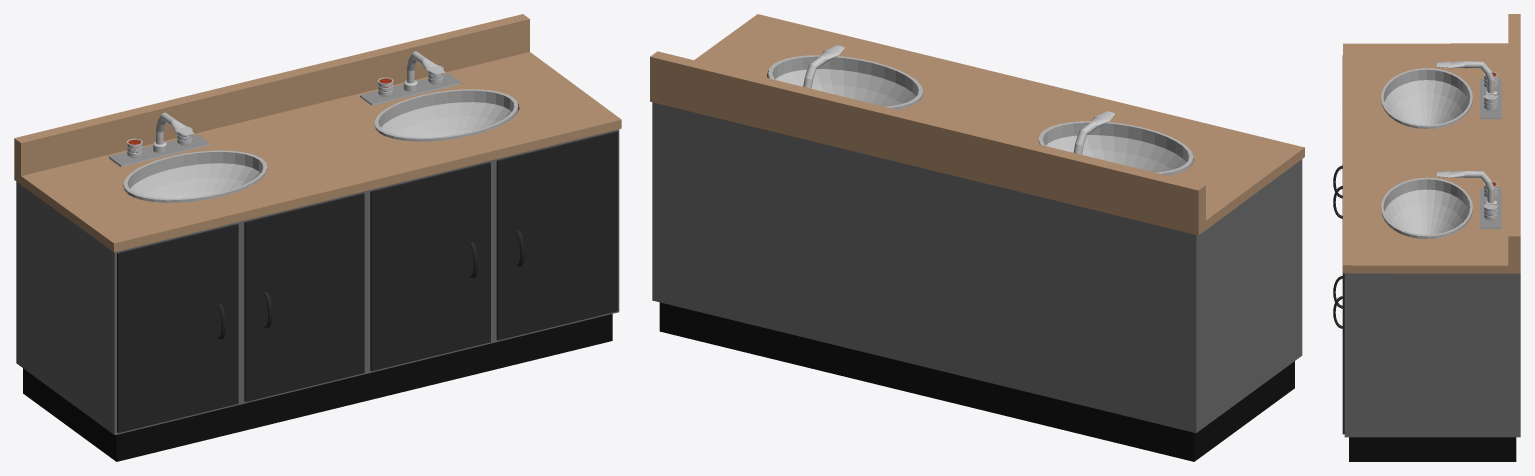
The model's file is Multi Sink #2.fbx.
The picture shows the model from 3 angles, left to right: view 1: azimuth 30°, elevation 25°; view 2: azimuth 150°, elevation 25°; view 3: azimuth 270°, elevation 25°; orthographic projection. The views are drawn at different scales.
Parts seen in each view (by area): view 1: Multi Sink #2; view 2: Multi Sink #2; view 3: Multi Sink #2.
Boxes of the visible parts, left/top/right/bottom form: Multi Sink #2: left=14, top=14, right=621, bottom=461; Multi Sink #2: left=650, top=14, right=1304, bottom=461; Multi Sink #2: left=1333, top=14, right=1520, bottom=461.
Bounding box in the file's own units: 228 × 113 × 81.17.
1 material, 1 textured.
